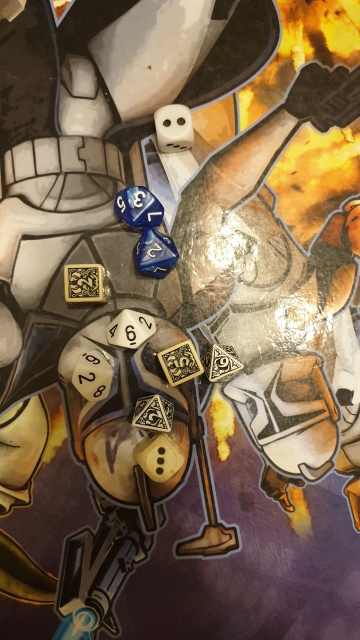d10-2: (67, 347, 117, 407), (129, 235, 181, 276)
d10-3: (112, 181, 166, 231)
d10-6: (101, 304, 160, 352)
d6-2: (157, 104, 193, 146)
d6-3: (135, 437, 185, 483)
d6p-2: (60, 262, 110, 304)
d6p-5: (154, 339, 201, 386)
d8p-2: (127, 393, 177, 431)
d8p-6: (204, 341, 247, 391)
